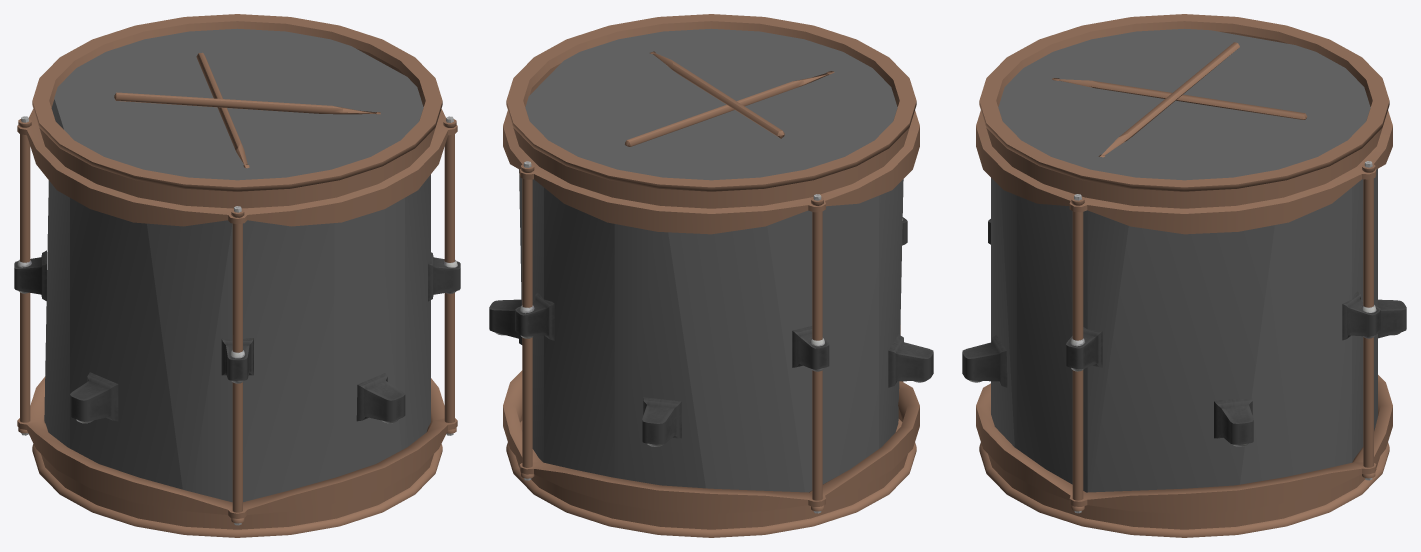
File: Drum.fbx
3 views of the same model, side by side, from view 1: azimuth 30°, elevation 25°; view 2: azimuth 150°, elevation 25°; view 3: azimuth 270°, elevation 25° (orthographic).
Visible parts, largest first — view 1: Drum; view 2: Drum; view 3: Drum.
Boxes of the visible parts, x1=… form: Drum: x1=14, y1=14, x2=460, y2=537; Drum: x1=489, y1=14, x2=933, y2=537; Drum: x1=962, y1=14, x2=1406, y2=537.
Size of the model in its own units: 65.49 by 58.92 by 65.49.
